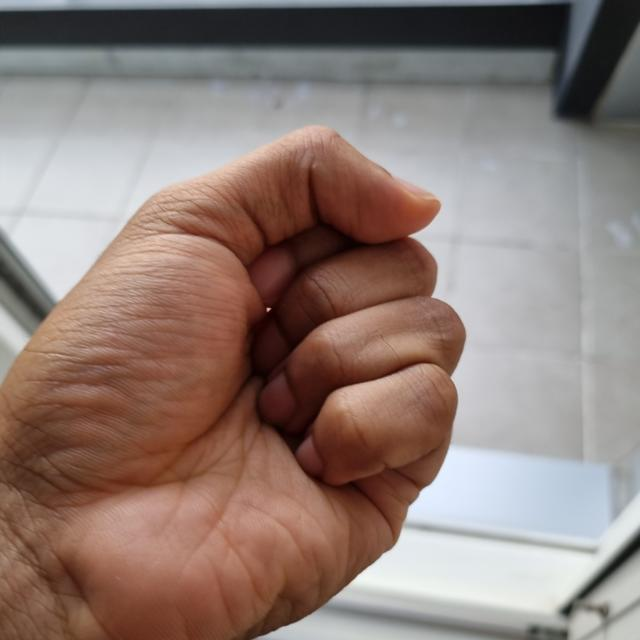Rock: (0, 125, 465, 638)
